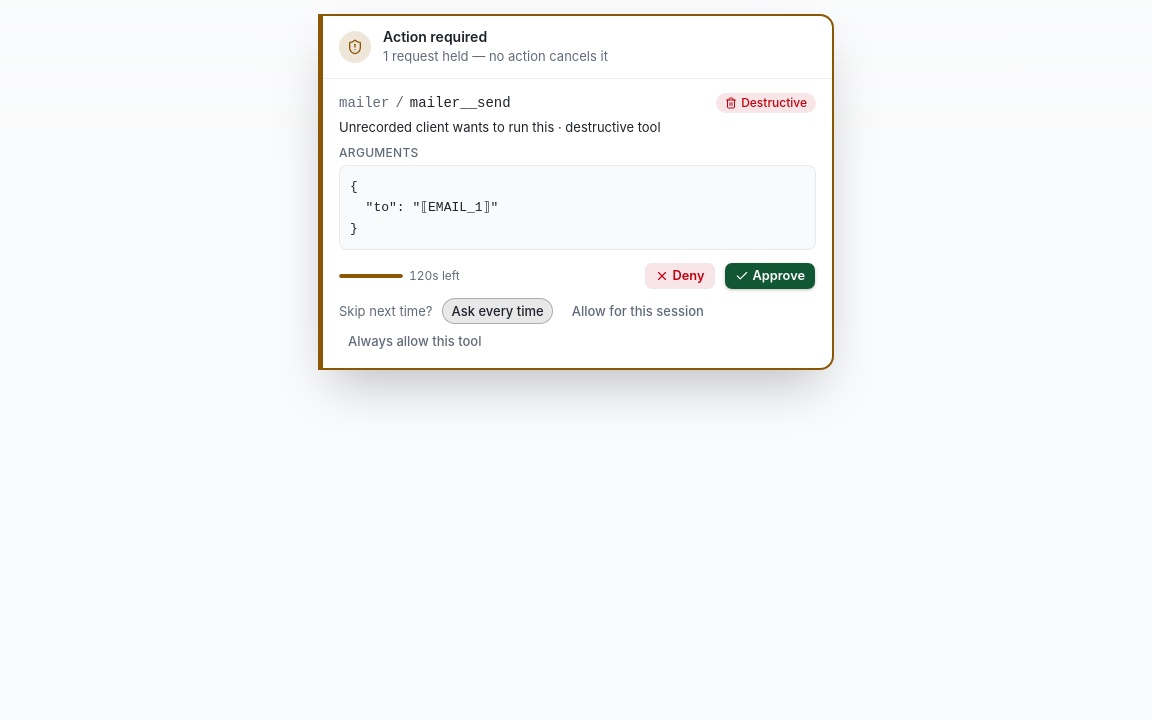
PendingApprovals refresh ordering › keeps a decided row until the authoritative queue removes it
Click the button "Deny": (680, 276) 644,262 -> 716,290
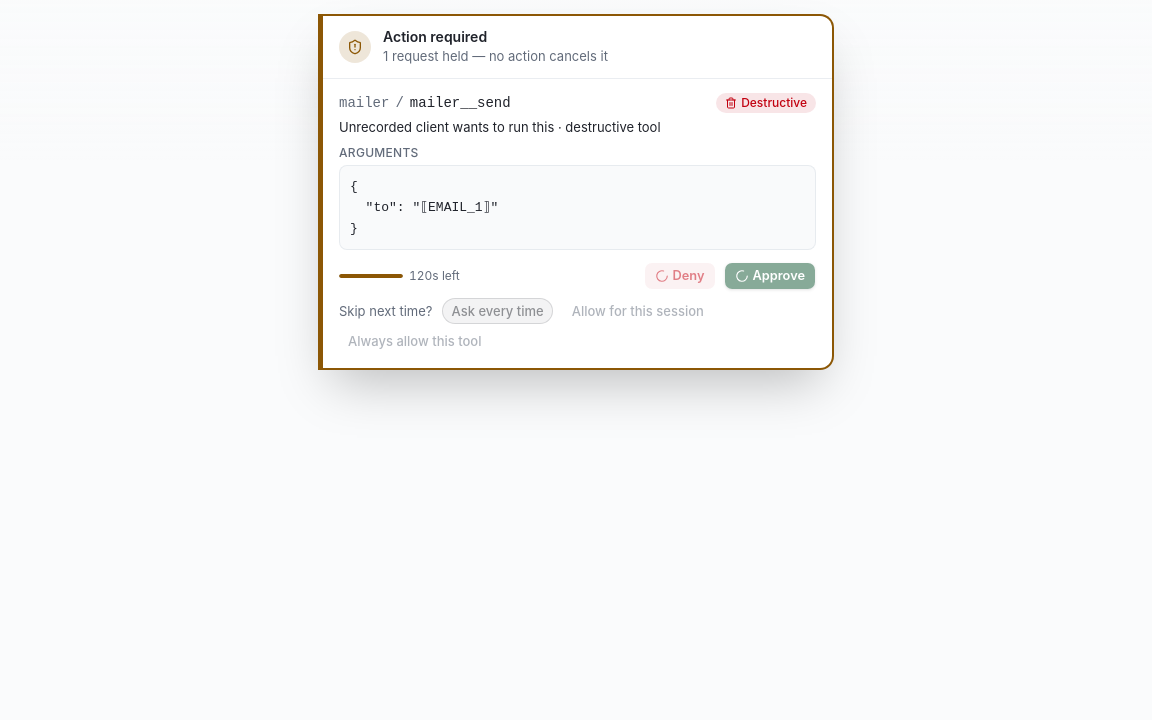
Expected: the dialog is shown, 320,16 -> 832,368
Result: the button "Deny" is disabled at 644,262 -> 716,290
